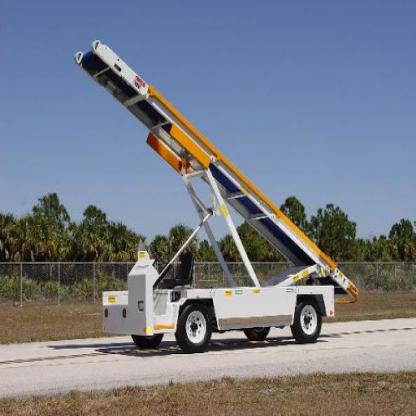baggagetruck: (68, 34, 361, 348)
